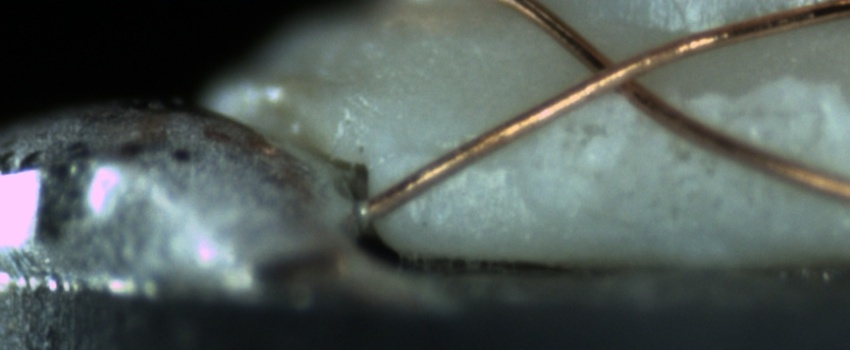CL: (561, 34, 665, 111)
DL: (392, 131, 503, 190)
